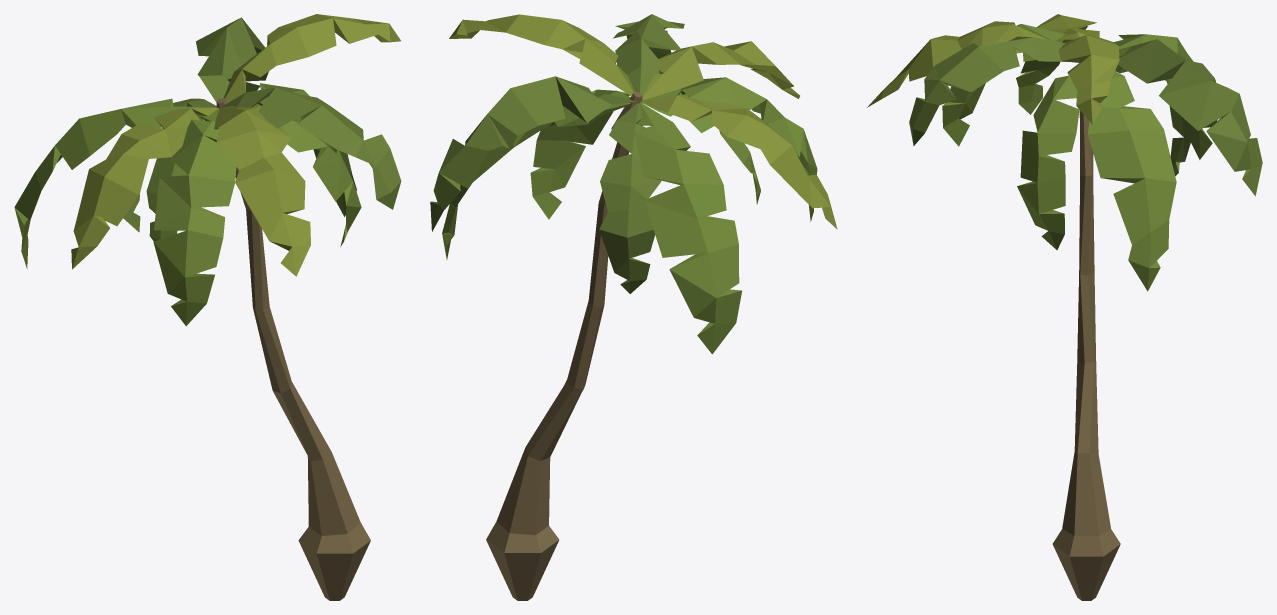
The model's file is Palm_2.fbx.
3 views of the same model, side by side, from view 1: azimuth 30°, elevation 25°; view 2: azimuth 150°, elevation 25°; view 3: azimuth 270°, elevation 25° (orthographic). The views are drawn at different scales.
Parts seen in each view (by area): view 1: Palm_2; view 2: Palm_2; view 3: Palm_2.
Part boxes in pixels (bbox=[...]): Palm_2: bbox=[14, 14, 401, 600]; Palm_2: bbox=[430, 14, 837, 600]; Palm_2: bbox=[867, 14, 1262, 600].
Size of the model in its own units: 327 by 507 by 334.
